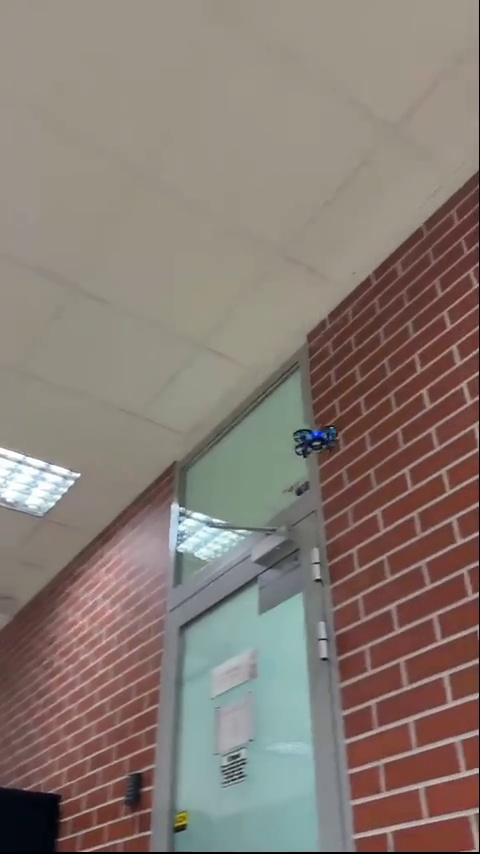drone: (289, 424, 348, 457)
